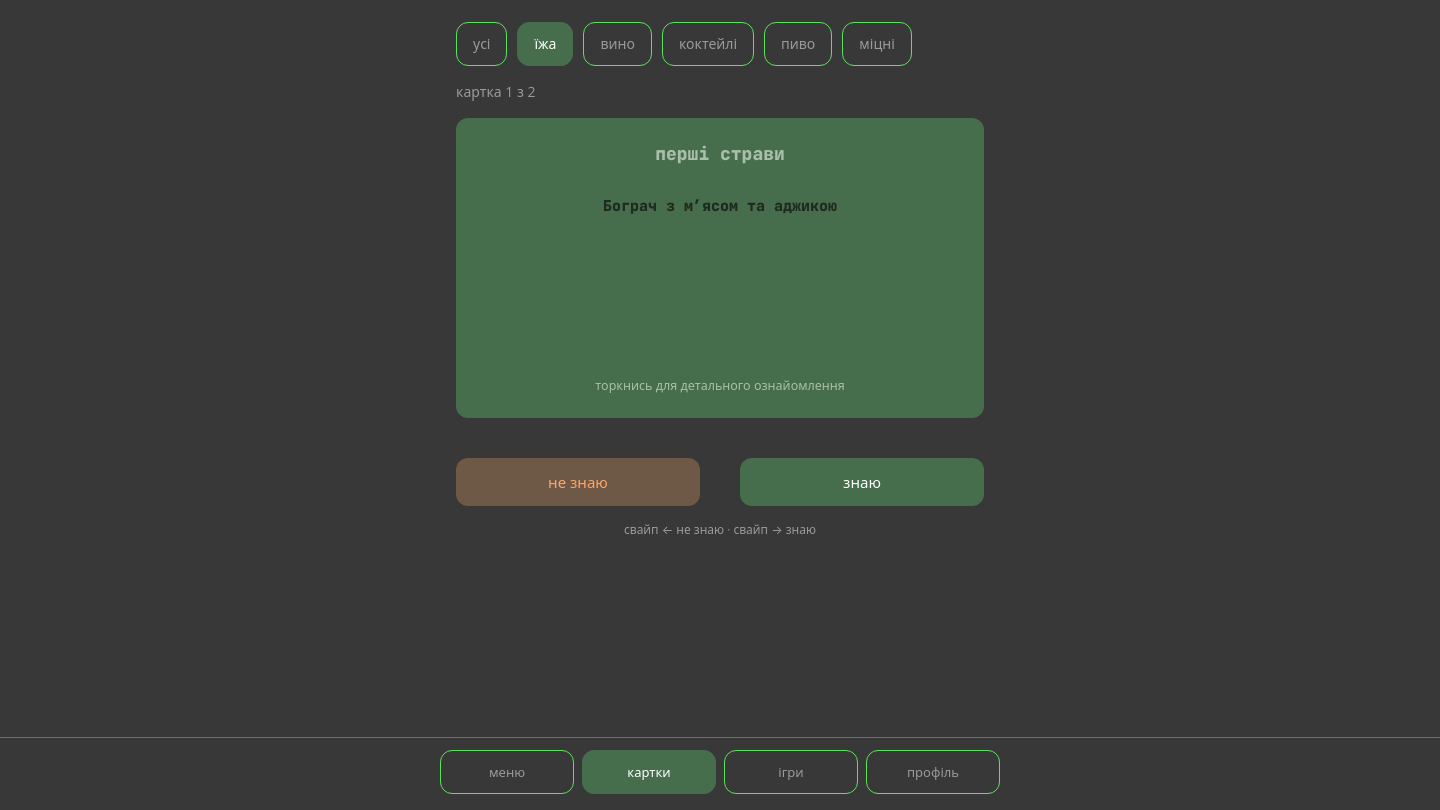
CardsView (mobile) › summarises the run and offers «ще раз» and «лише помилки»
Click the button "знаю" at (862, 482), box [740,458,984,506]
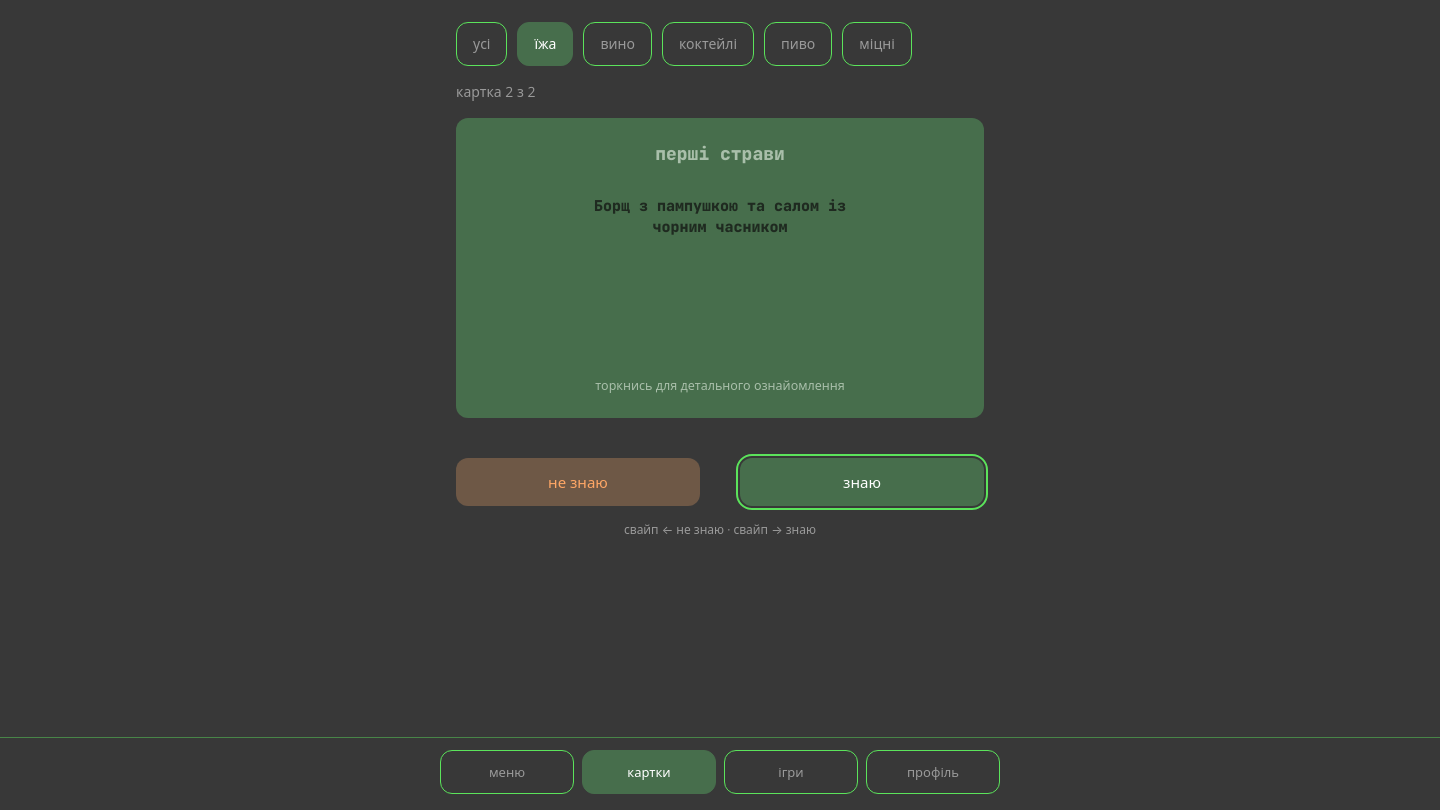
Click the button "не знаю" at (578, 482), box [456,458,700,506]
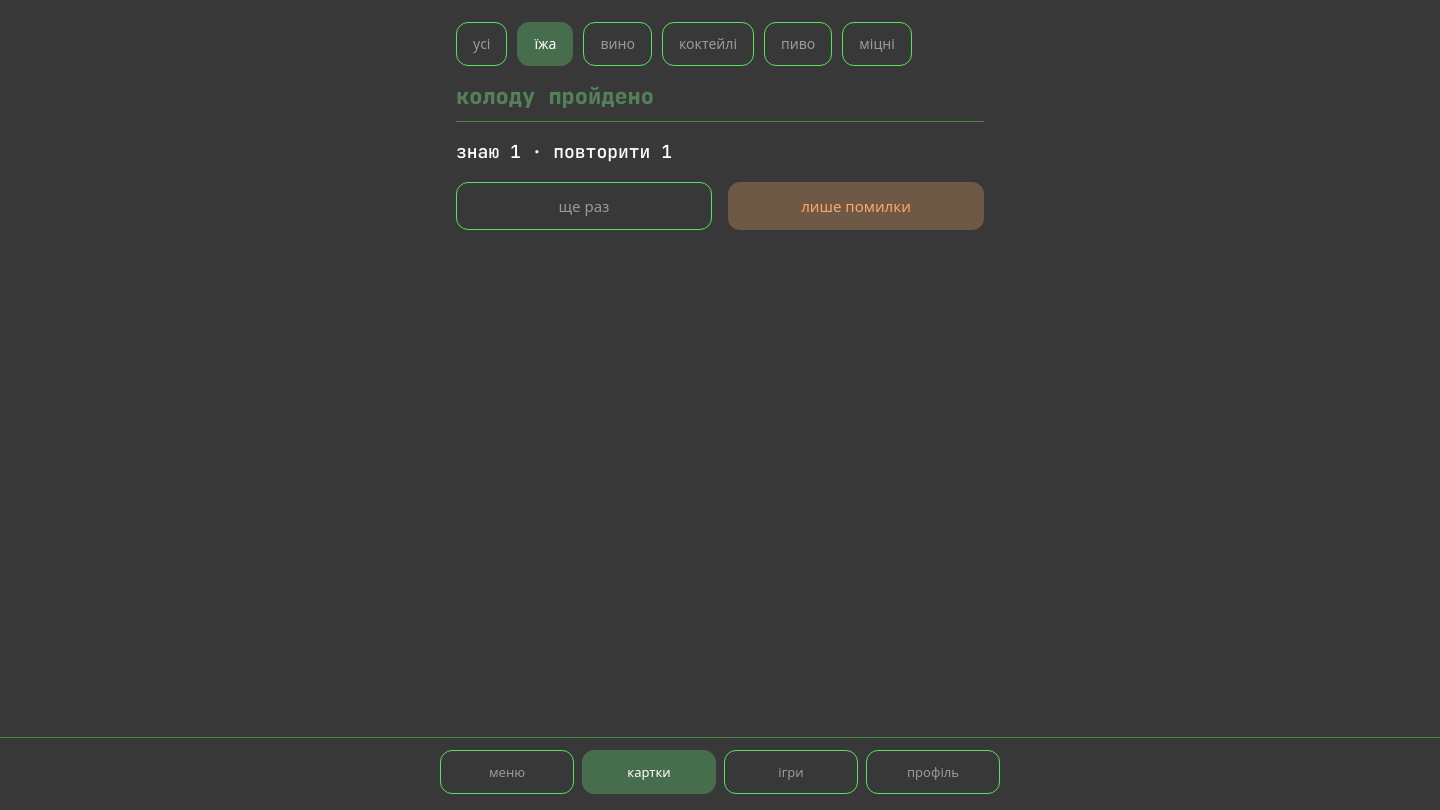
Result: the heading "колоду пройдено" is shown at [456,82,984,122]
Result: the text "знаю 1 · повторити 1" is shown at [456,140,672,163]
Click the button "лише помилки" at (856, 206), box [728,182,984,230]
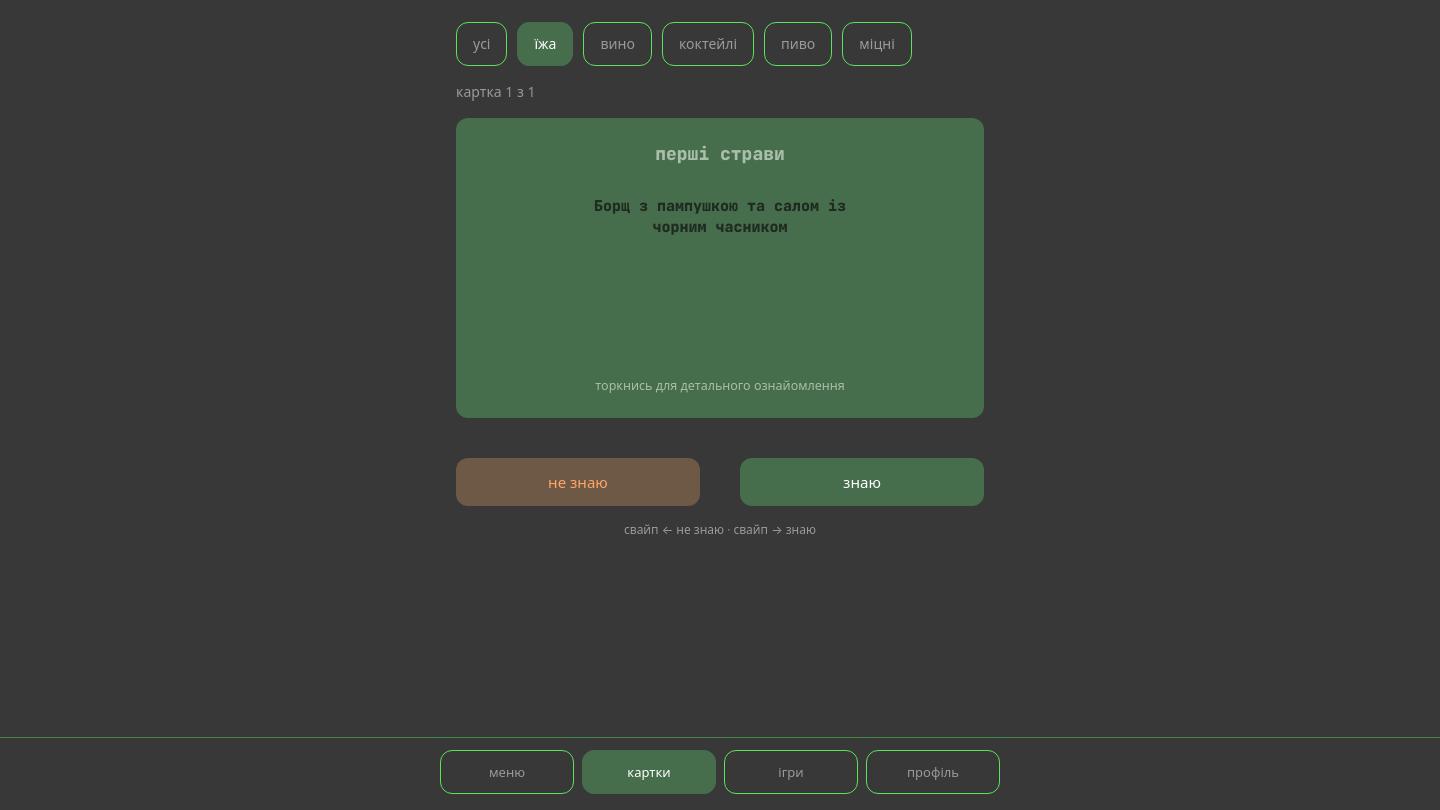
Result: the text "картка 1 з 1" is shown at [456,82,536,101]
Click the button "знаю" at (862, 482), box [740,458,984,506]
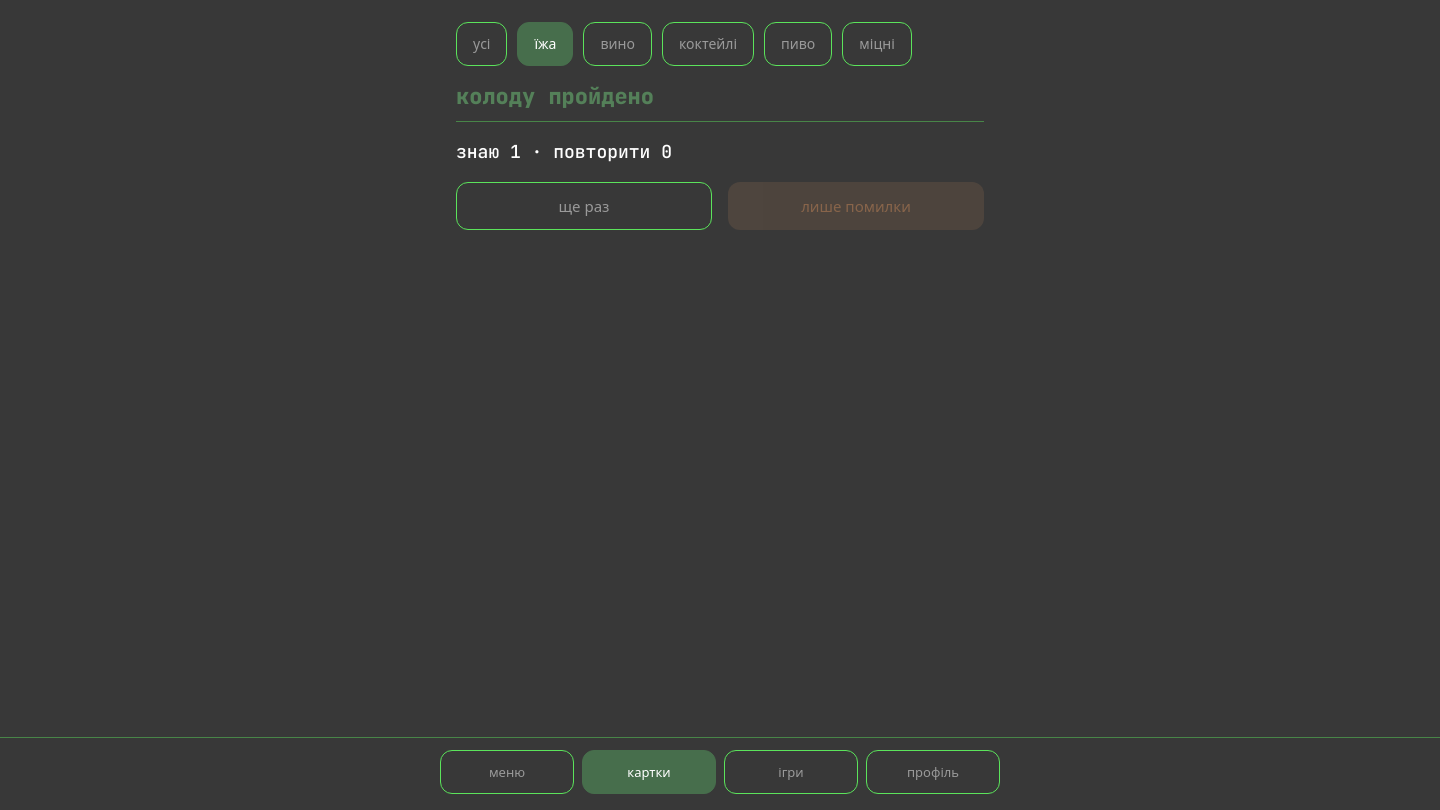
Result: the button "лише помилки" is disabled at [728,182,984,230]
Click the button "ще раз" at (584, 206), box [456,182,712,230]
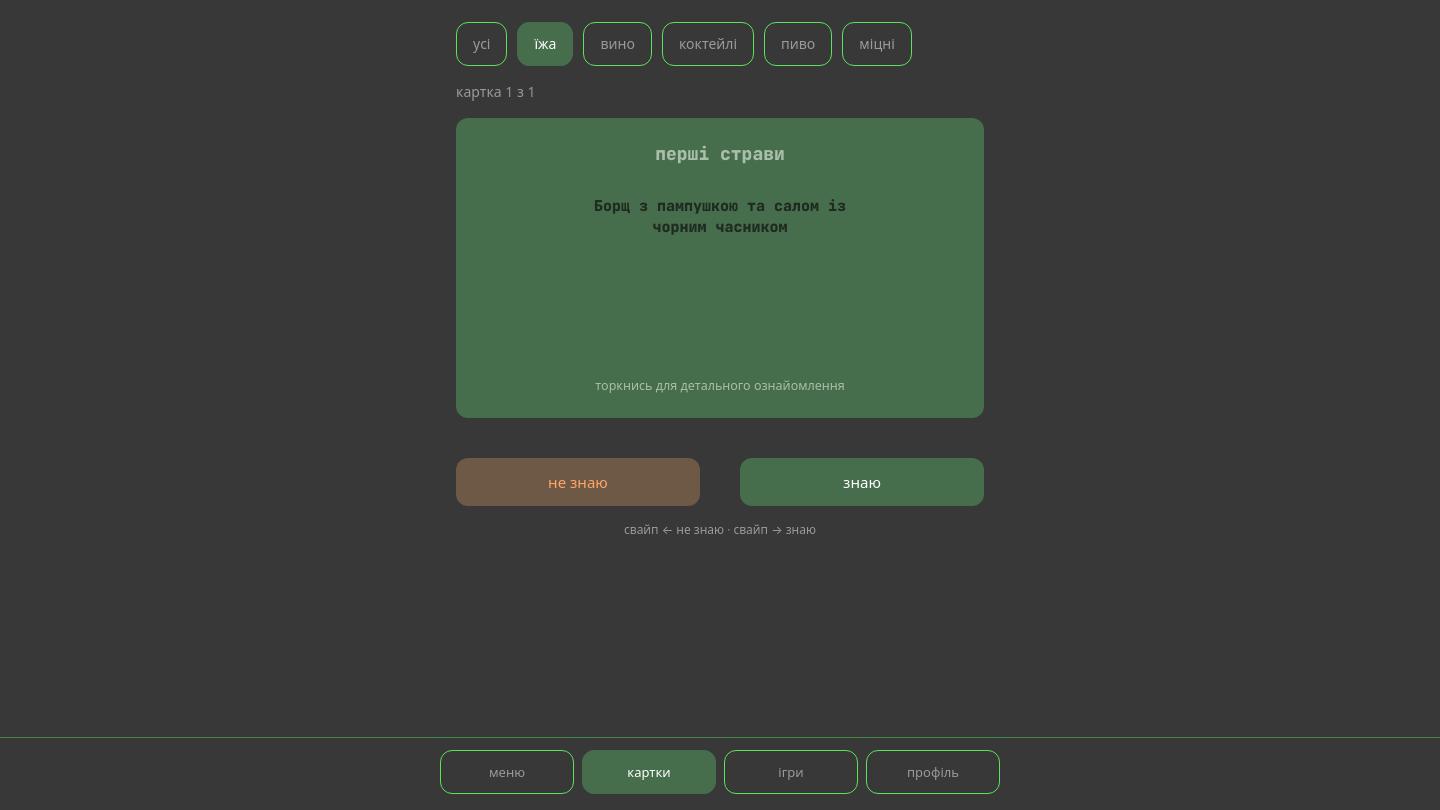
Result: the text "картка 1 з 1" is shown at [456,82,536,101]
